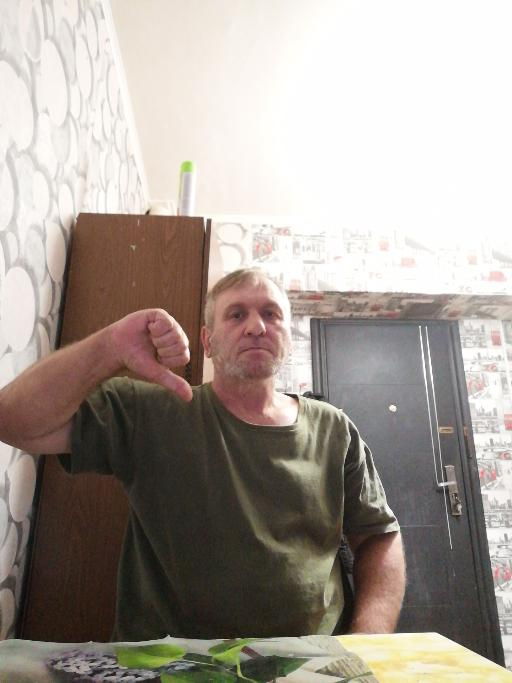dislike: (118, 304, 194, 406)
